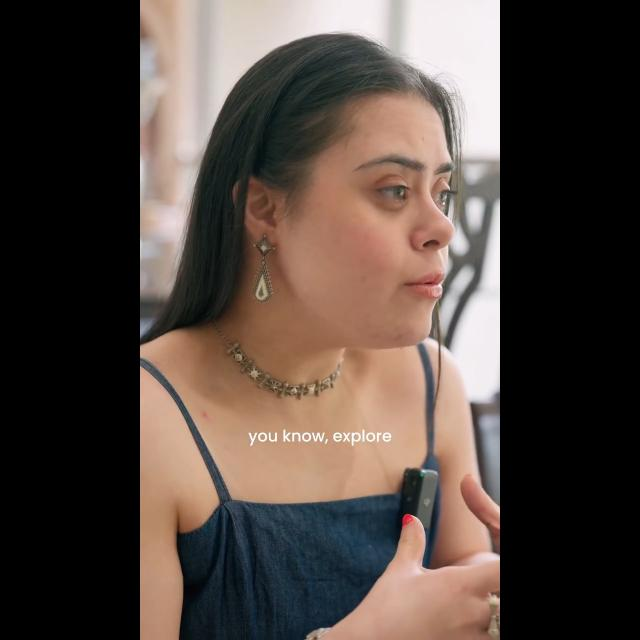ear ring: (248, 228, 278, 306)
